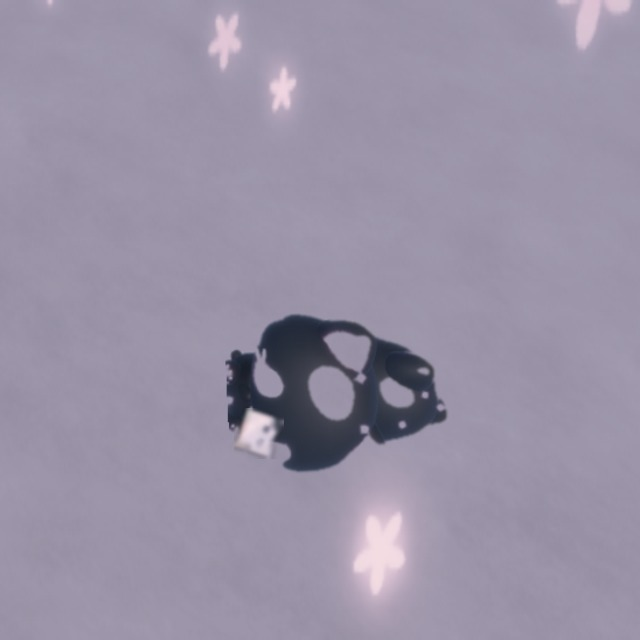urso_branco: (234, 408, 284, 459)
urso_preto: (222, 299, 466, 492)
